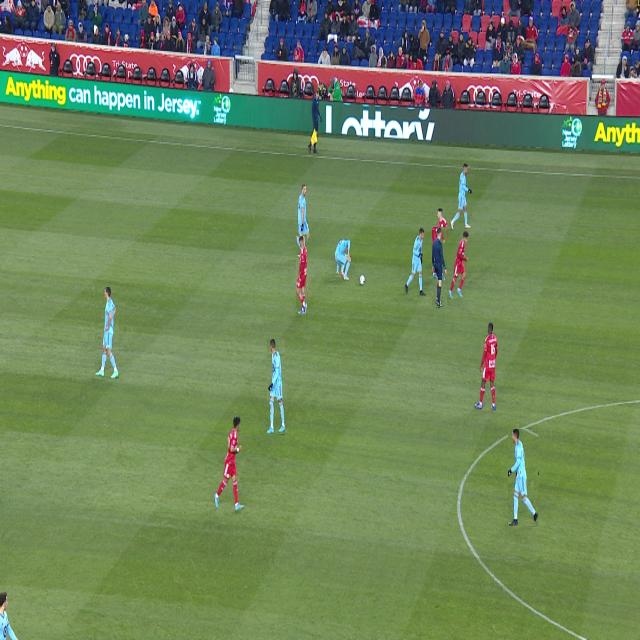football: (360, 275, 365, 285)
player: (508, 429, 538, 526), (214, 417, 244, 511), (95, 288, 119, 379), (474, 322, 498, 410), (267, 339, 285, 434), (450, 164, 472, 230), (405, 228, 426, 296), (449, 231, 468, 299), (298, 185, 310, 259), (0, 592, 18, 640), (297, 237, 307, 315), (335, 239, 351, 280), (434, 208, 447, 245), (434, 272, 437, 282)
referee: (432, 228, 447, 307)
